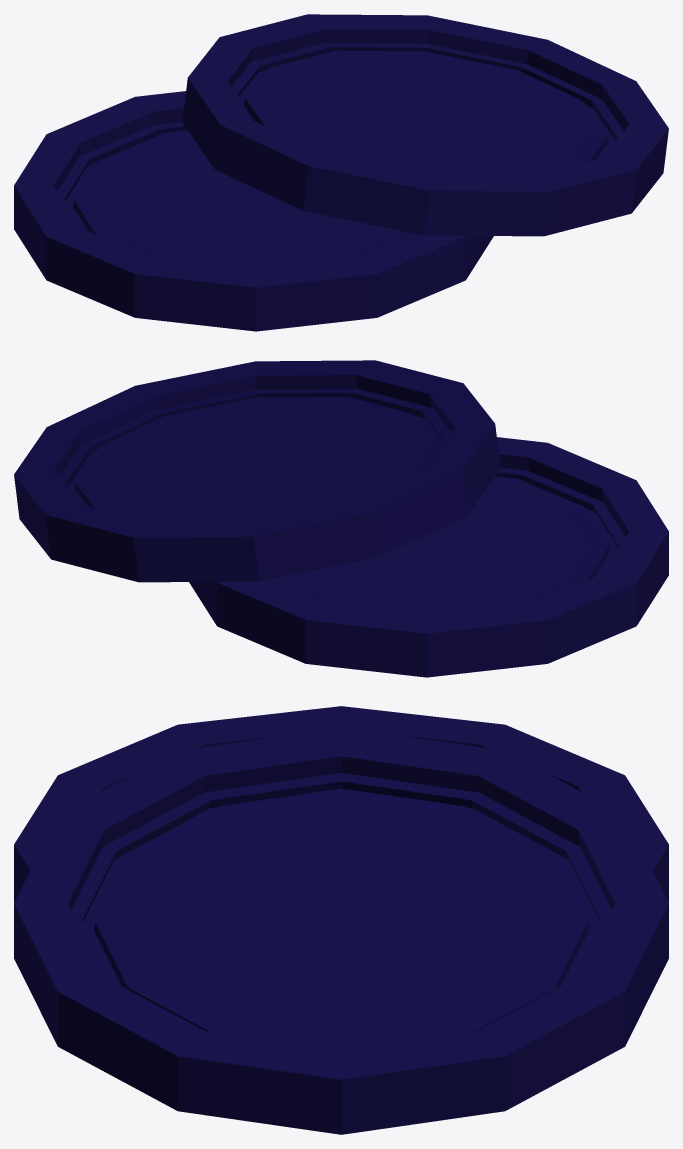
File: UI_SM_Poker_Chip_Pair.fbx
3 views of the same model, one above another, from view 1: azimuth 30°, elevation 25°; view 2: azimuth 150°, elevation 25°; view 3: azimuth 270°, elevation 25° (orthographic). The views are drawn at different scales.
Parts seen in each view (by area): view 1: UI_SM_Poker_Chip_Pair; view 2: UI_SM_Poker_Chip_Pair; view 3: UI_SM_Poker_Chip_Pair.
Boxes of the visible parts, bbox=[...] form: UI_SM_Poker_Chip_Pair: bbox=[14, 14, 668, 331]; UI_SM_Poker_Chip_Pair: bbox=[14, 360, 668, 677]; UI_SM_Poker_Chip_Pair: bbox=[14, 706, 668, 1134].
Bounding box in the file's own units: 281 × 200 × 51.53.
